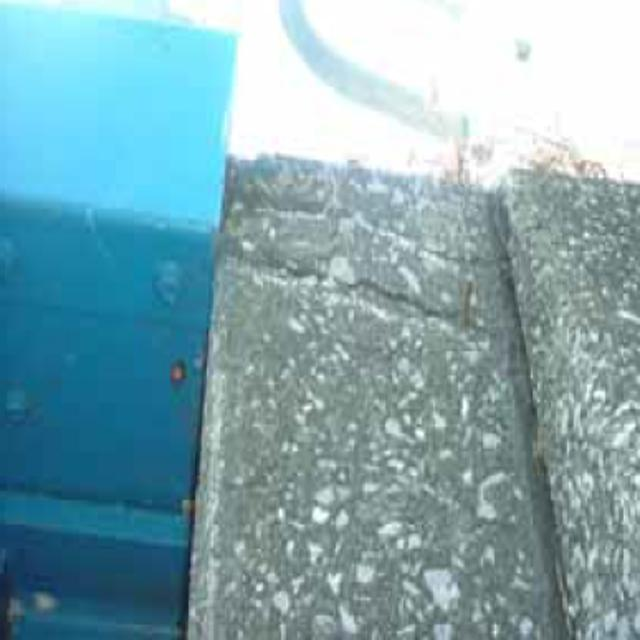crack: (232, 188, 514, 372)
